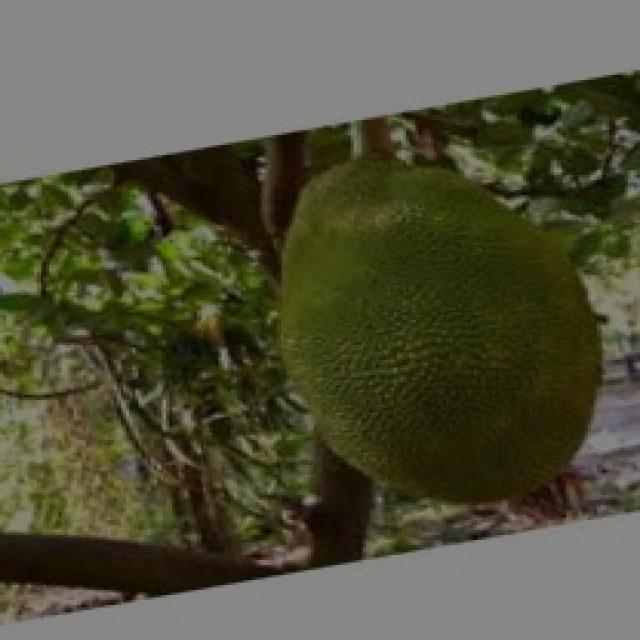Fruit: (240, 130, 631, 525)
